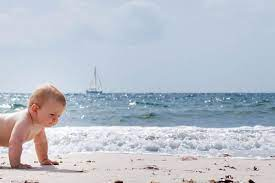child: (1, 82, 66, 171)
